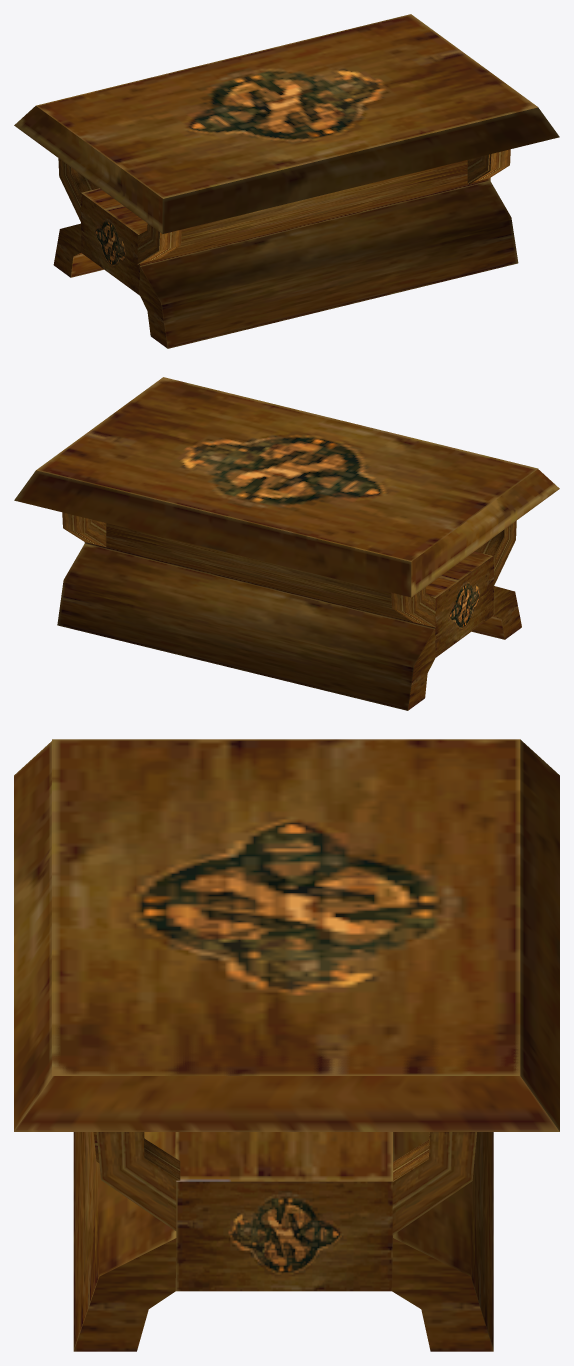
The model's file is generalaltar01.obj.
The picture shows the model from 3 angles, top to bottom: view 1: azimuth 30°, elevation 25°; view 2: azimuth 150°, elevation 25°; view 3: azimuth 270°, elevation 25°; orthographic projection. The views are drawn at different scales.
Parts seen in each view (by area): view 1: GENERALALTAR010; view 2: GENERALALTAR010; view 3: GENERALALTAR010.
Boxes of the visible parts, bbox=[...] form: GENERALALTAR010: bbox=[14, 14, 559, 348]; GENERALALTAR010: bbox=[14, 377, 559, 710]; GENERALALTAR010: bbox=[14, 739, 559, 1351].
Bounding box in the file's own units: 3.93 × 1.48 × 2.54.
Materials: 1 (1 with a texture image).
